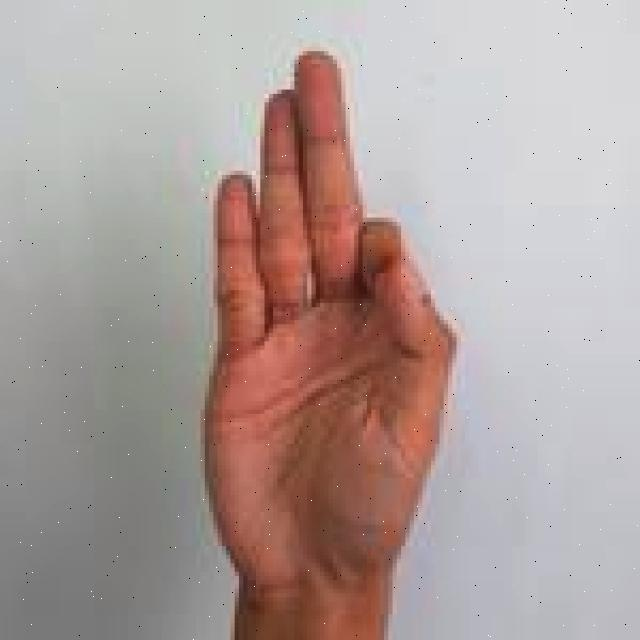F: (203, 48, 457, 640)
